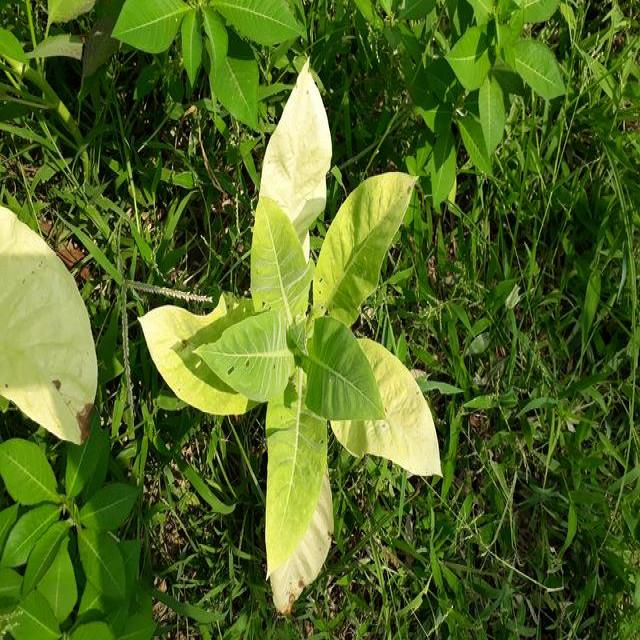crop: (154, 98, 444, 589), (0, 214, 92, 434)
